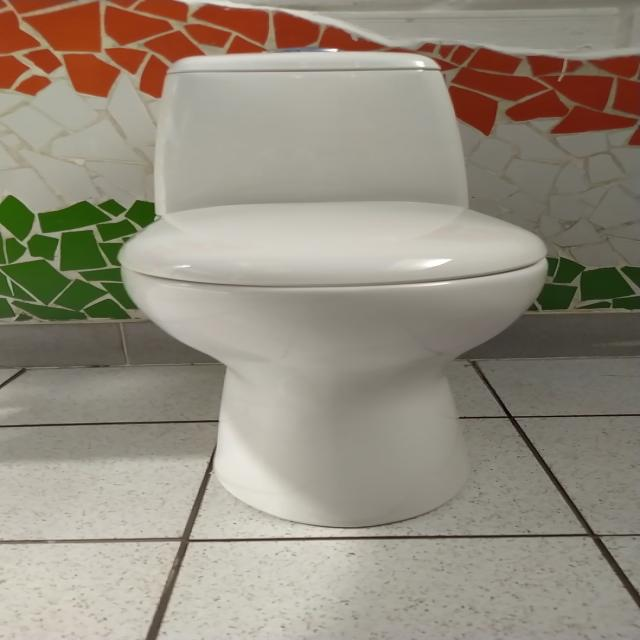toilet: (116, 49, 549, 528)
